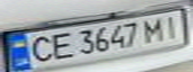3: (75, 27, 96, 55)
4: (109, 21, 130, 50)
6: (93, 25, 112, 53)
7: (121, 19, 145, 47)
C: (21, 33, 57, 64)
E: (45, 29, 75, 61)
I: (160, 11, 190, 39)
M: (139, 15, 172, 43)
